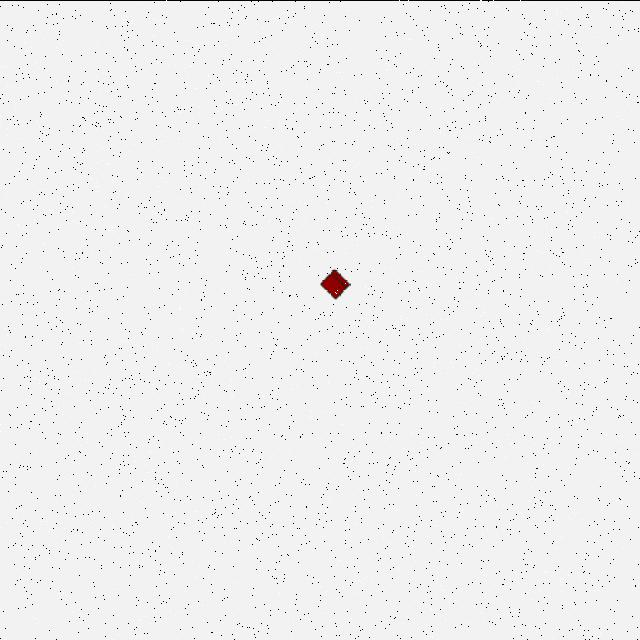3070b: (316, 264, 354, 302)
